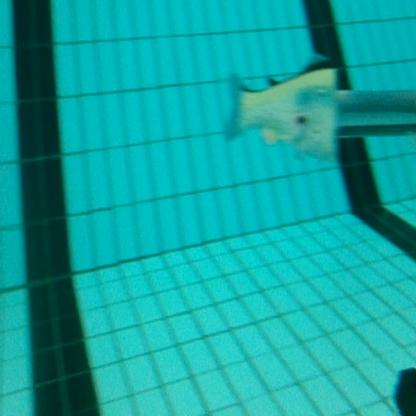tail: (225, 54, 340, 164)
